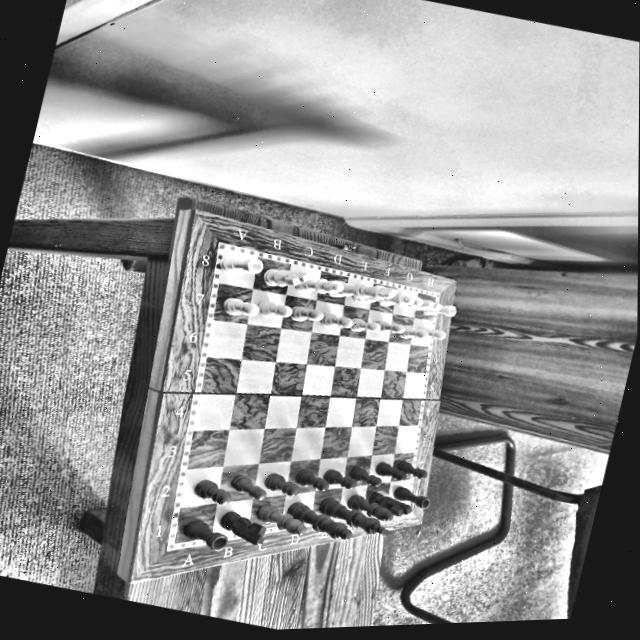black-bishop: (252, 500, 313, 545), (340, 490, 398, 528)
black-king: (312, 491, 397, 545)
black-knight: (213, 506, 272, 551), (362, 487, 414, 525)
black-pawn: (184, 473, 235, 512), (222, 470, 272, 507), (287, 464, 333, 496), (317, 465, 360, 495), (259, 471, 301, 501), (344, 463, 386, 492), (367, 457, 410, 485), (391, 455, 431, 485)
black-queen: (277, 495, 357, 548)
black-rook: (177, 513, 231, 555), (388, 481, 434, 516)
white-bishop: (291, 268, 345, 303), (409, 295, 422, 310)
white-king: (322, 270, 396, 312)
white-knight: (258, 260, 309, 295), (409, 294, 442, 318)
white-pawn: (214, 292, 260, 324), (284, 297, 325, 330), (254, 294, 295, 325), (316, 306, 355, 336), (369, 315, 407, 340), (395, 320, 430, 346), (346, 313, 381, 339), (412, 320, 448, 345)
white-queen: (351, 280, 415, 321)
white-rook: (214, 247, 266, 282), (420, 296, 457, 325)
